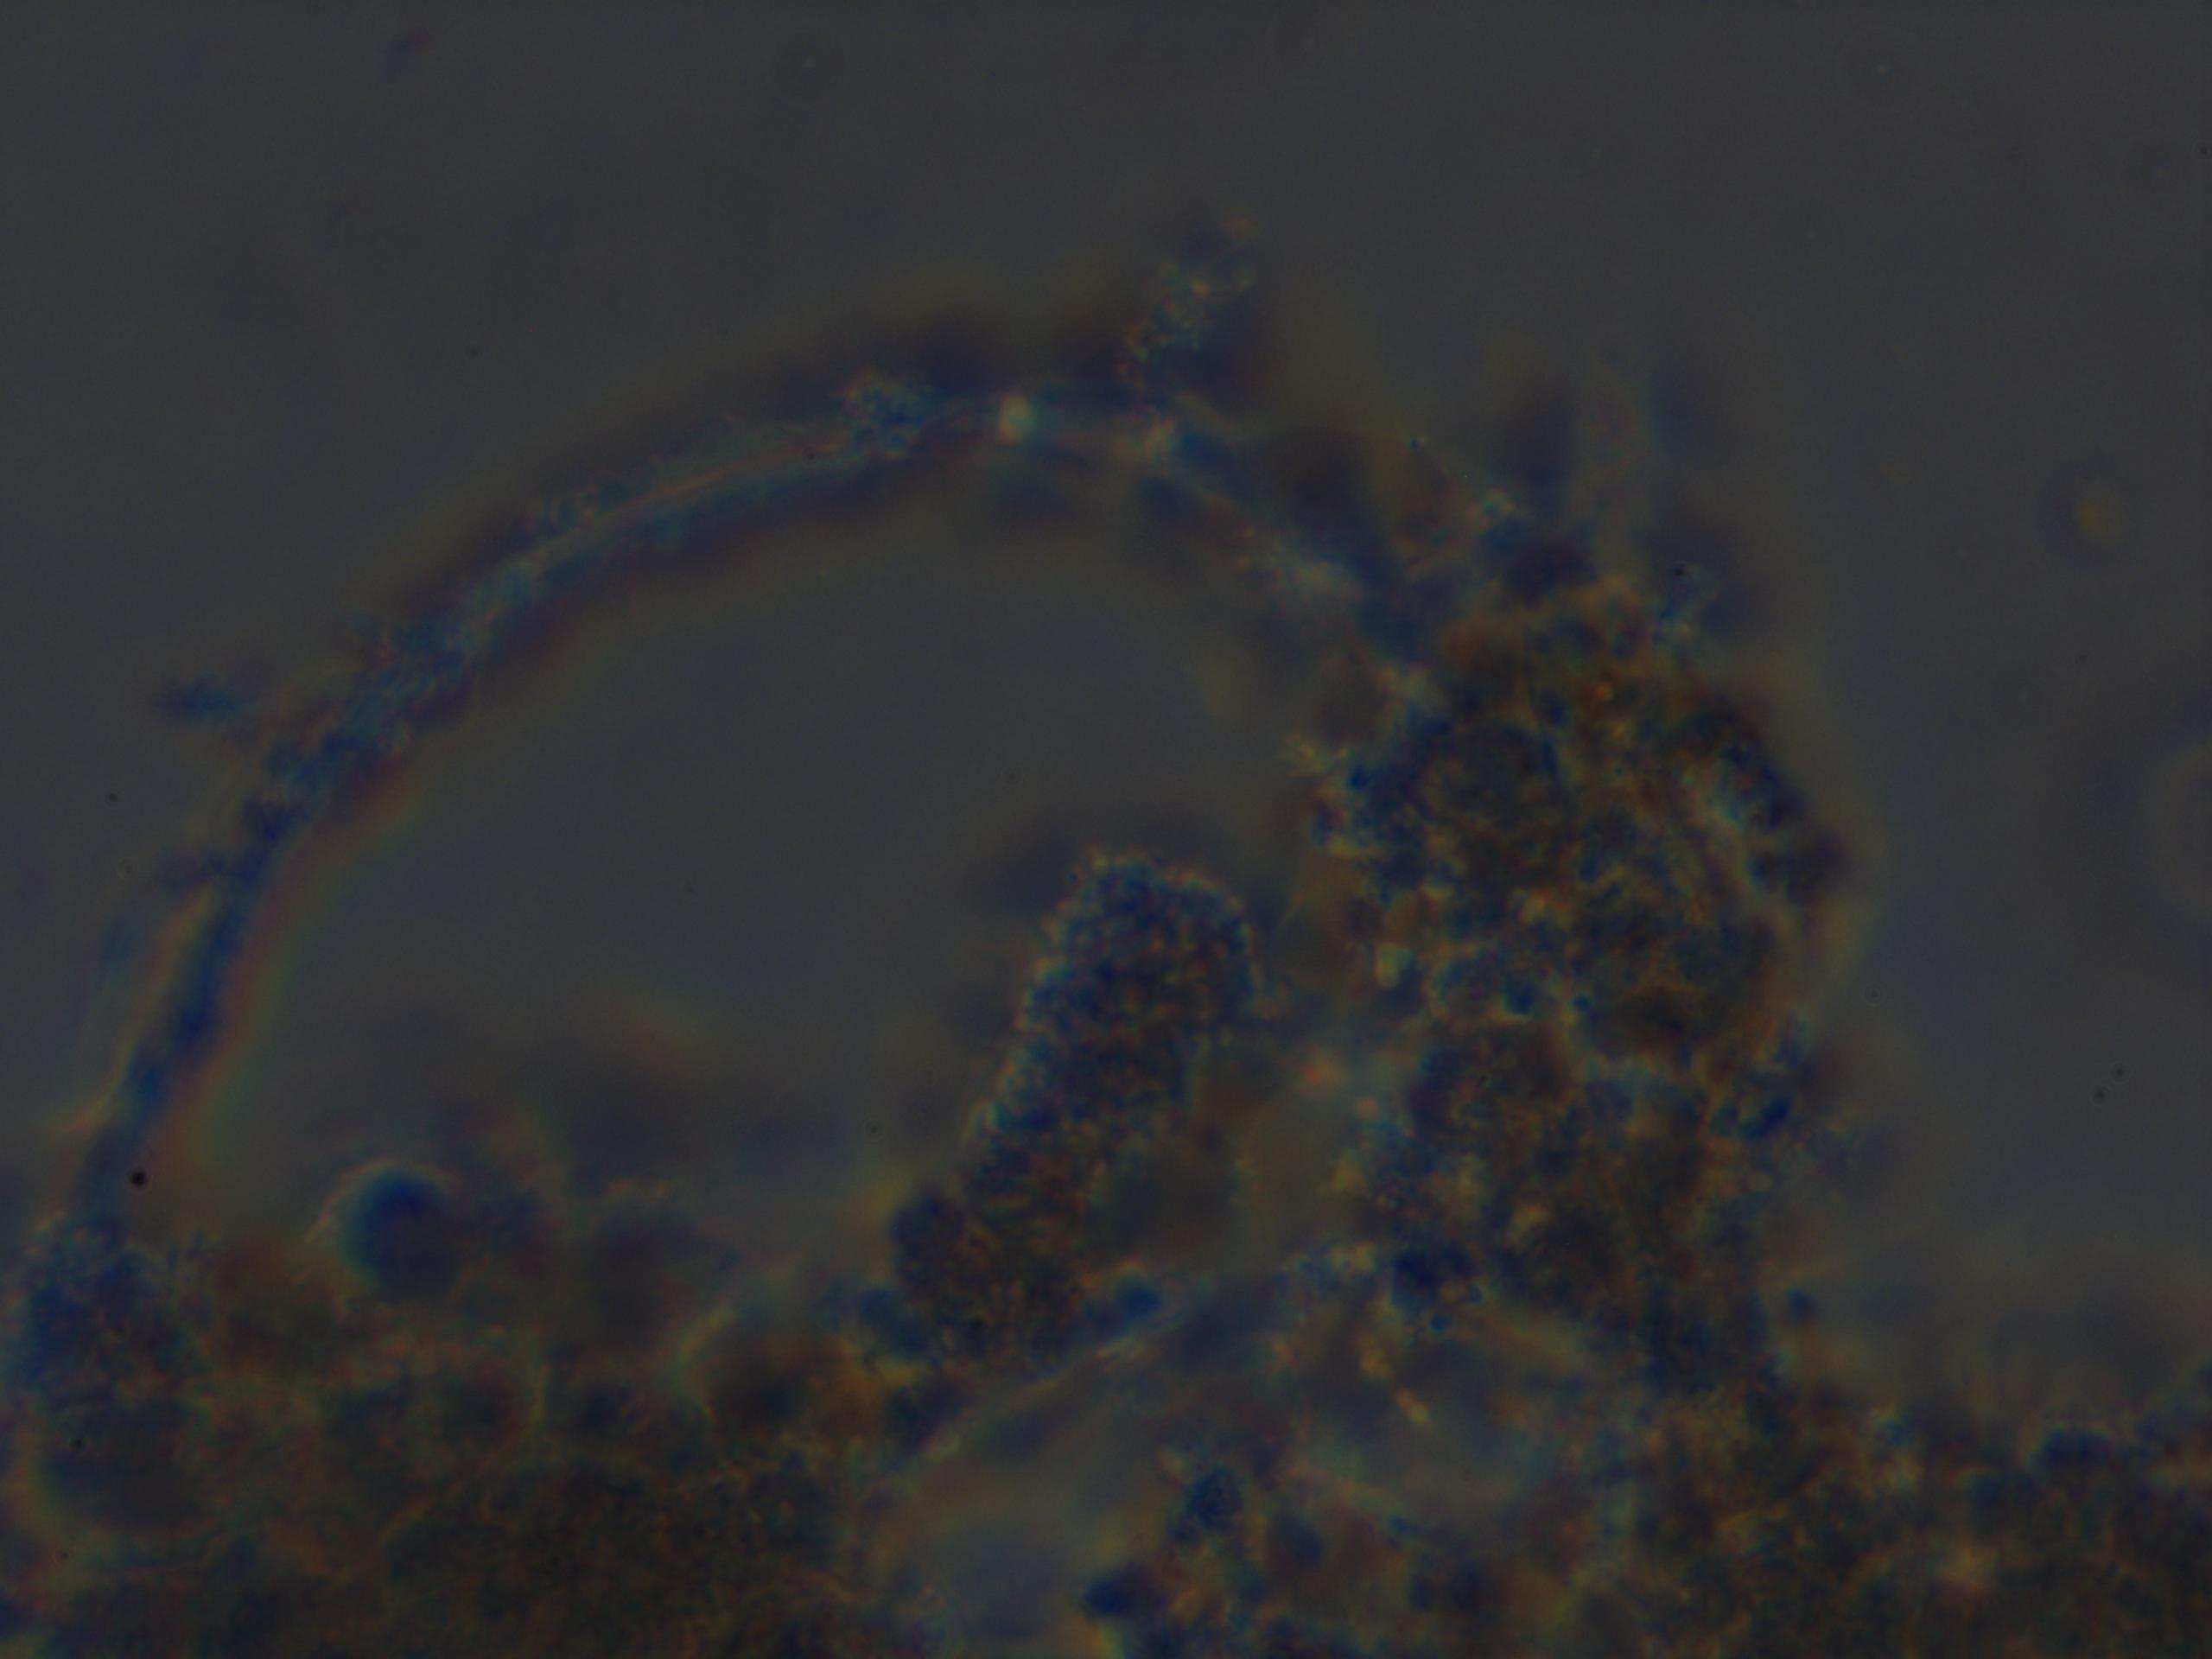filament: (0, 328, 1435, 1321)
